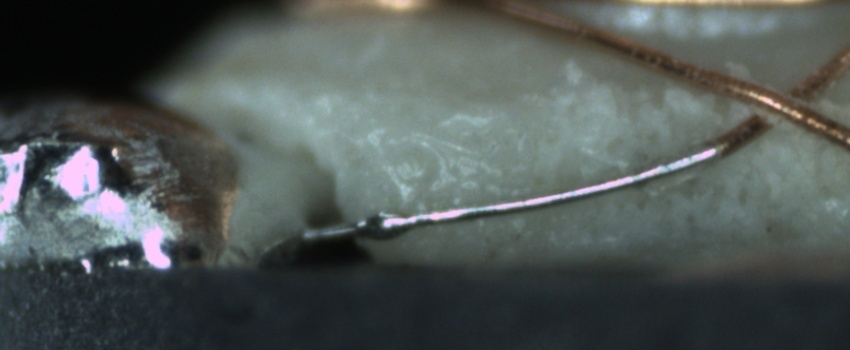CL: (727, 67, 823, 139)
DL: (371, 83, 746, 121)
TB: (356, 209, 412, 240)
TS: (306, 138, 721, 243)
TTCW: (288, 114, 771, 244)
